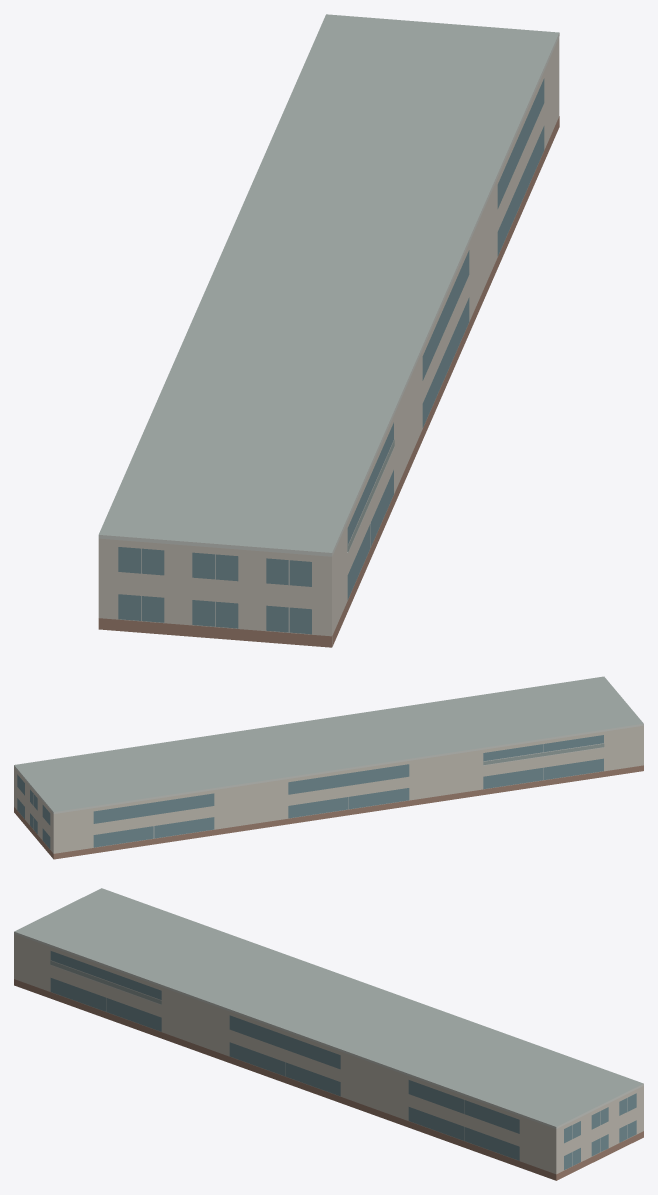
Rendered from residential-188559a7-b57c-47d8-a871-6856a0298493.glb.
The picture shows the model from 3 angles, top to bottom: view 1: azimuth 30°, elevation 25°; view 2: azimuth 150°, elevation 25°; view 3: azimuth 270°, elevation 25°; orthographic projection. The views are drawn at different scales.
Parts seen in each view (by area): view 1: residential-188559a7-b57c-47d8-a871-6856a0298493.tmp; view 2: residential-188559a7-b57c-47d8-a871-6856a0298493.tmp; view 3: residential-188559a7-b57c-47d8-a871-6856a0298493.tmp.
Boxes of the visible parts, box(x1,y1,x2,y2) form: residential-188559a7-b57c-47d8-a871-6856a0298493.tmp: box(98, 14, 559, 647); residential-188559a7-b57c-47d8-a871-6856a0298493.tmp: box(14, 676, 643, 859); residential-188559a7-b57c-47d8-a871-6856a0298493.tmp: box(14, 888, 643, 1180).
Bounding box in the file's own units: 58.05 × 6.1 × 64.69.
